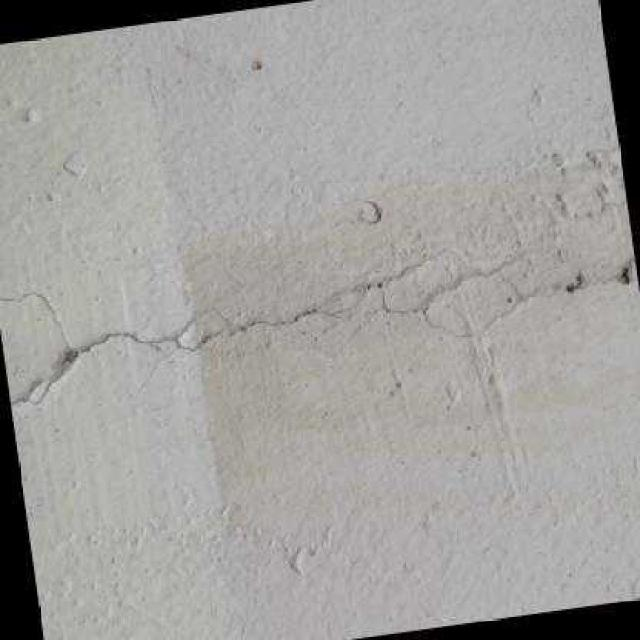D00: (0, 264, 524, 412)
